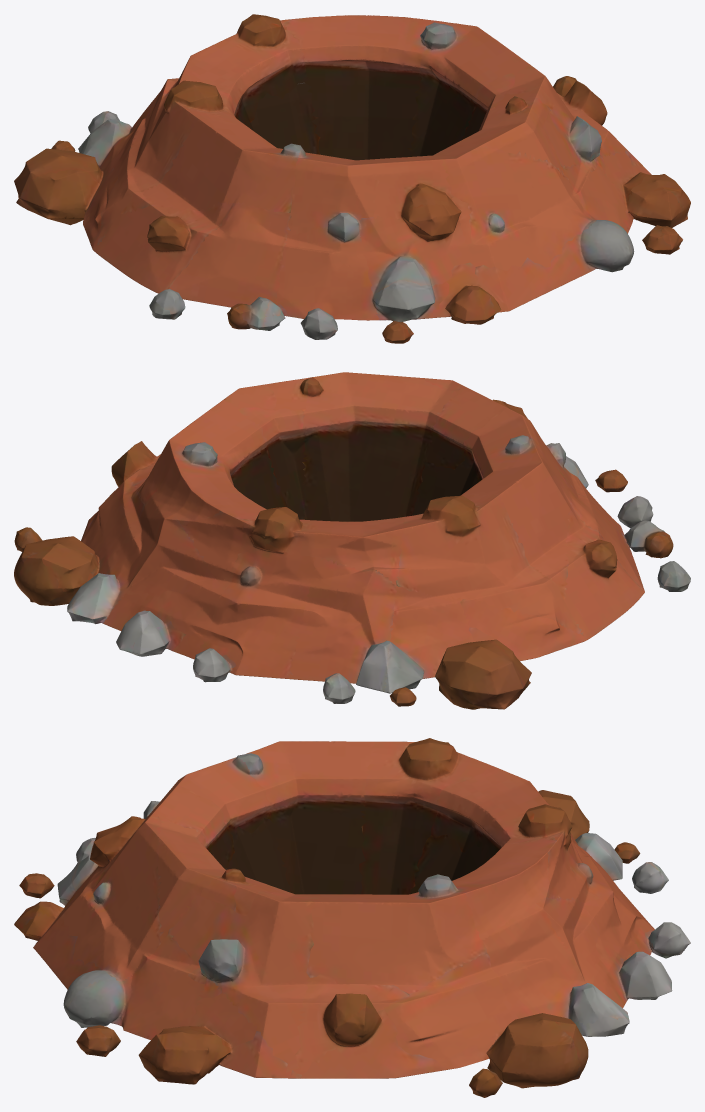
The model's file is burrow_hole.glb.
The picture shows the model from 3 angles, top to bottom: view 1: azimuth 30°, elevation 25°; view 2: azimuth 150°, elevation 25°; view 3: azimuth 270°, elevation 25°; orthographic projection. The views are drawn at different scales.
Bounding box in the file's own units: 1.9 × 0.5655 × 1.87.
1 material, 1 textured.
